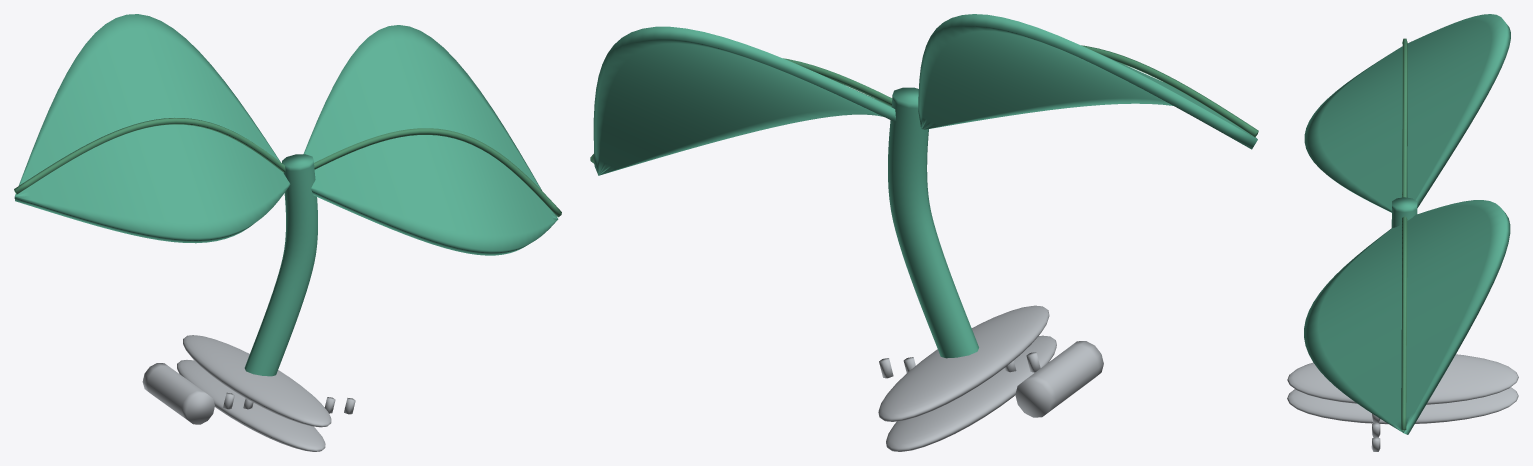
Rendered from Masculine-flow-headband261-sprout.glb.
3 renders of one model, left to right at view 1: azimuth 30°, elevation 25°; view 2: azimuth 150°, elevation 25°; view 3: azimuth 270°, elevation 25°, orthographic. The views are drawn at different scales.
Parts seen in each view (by area): view 1: 226 extra / Accessory / mint226, 226 extra / Sprout / clip silver235, 226 extra / Sprout / leaf vein235; view 2: 226 extra / Accessory / mint226, 226 extra / Sprout / clip silver235, 226 extra / Sprout / leaf vein235; view 3: 226 extra / Accessory / mint226, 226 extra / Sprout / clip silver235, 226 extra / Sprout / leaf vein235.
Boxes of the visible parts, box(x1,y1,x2,y2) form: 226 extra / Accessory / mint226: box(14, 14, 558, 376); 226 extra / Sprout / clip silver235: box(142, 335, 355, 451); 226 extra / Sprout / leaf vein235: box(14, 118, 561, 217); 226 extra / Accessory / mint226: box(593, 14, 1257, 358); 226 extra / Sprout / clip silver235: box(878, 305, 1103, 451); 226 extra / Sprout / leaf vein235: box(590, 45, 1258, 163); 226 extra / Accessory / mint226: box(1304, 14, 1510, 434); 226 extra / Sprout / clip silver235: box(1287, 354, 1518, 451); 226 extra / Sprout / leaf vein235: box(1401, 38, 1407, 430).
Size of the model in its own units: 0.2622 by 0.1764 by 0.104.
